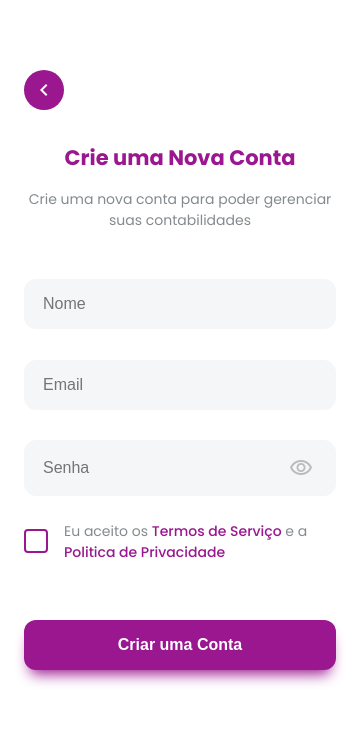
Test: Register Page Flow › if try register without all fields fill, It need message error required to all fields
Click the element showing "Criar uma Conta".
click(180, 645)  # box [24, 635, 336, 655]
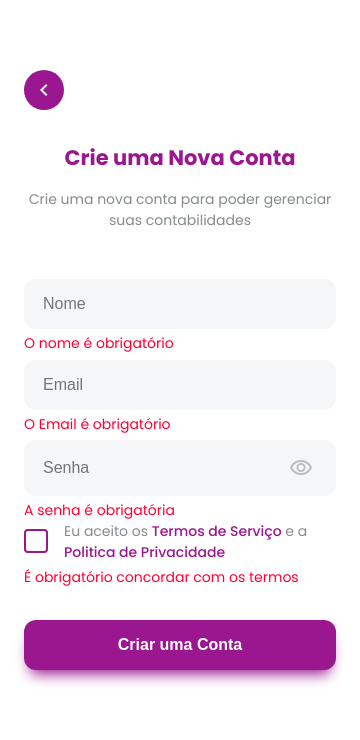
Now the text "O nome é obrigatório" is shown, box [24, 333, 174, 353]
Now the text "O Email é obrigatório" is shown, box [24, 414, 171, 434]
Now the text "A senha é obrigatória" is shown, box [24, 500, 175, 520]
